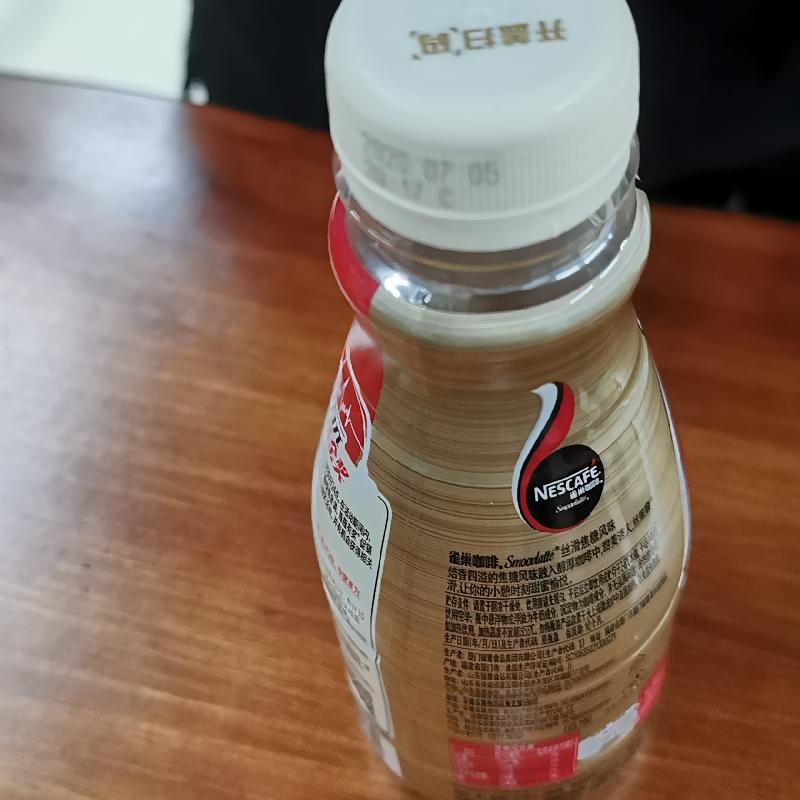bottles: (306, 4, 695, 799)
